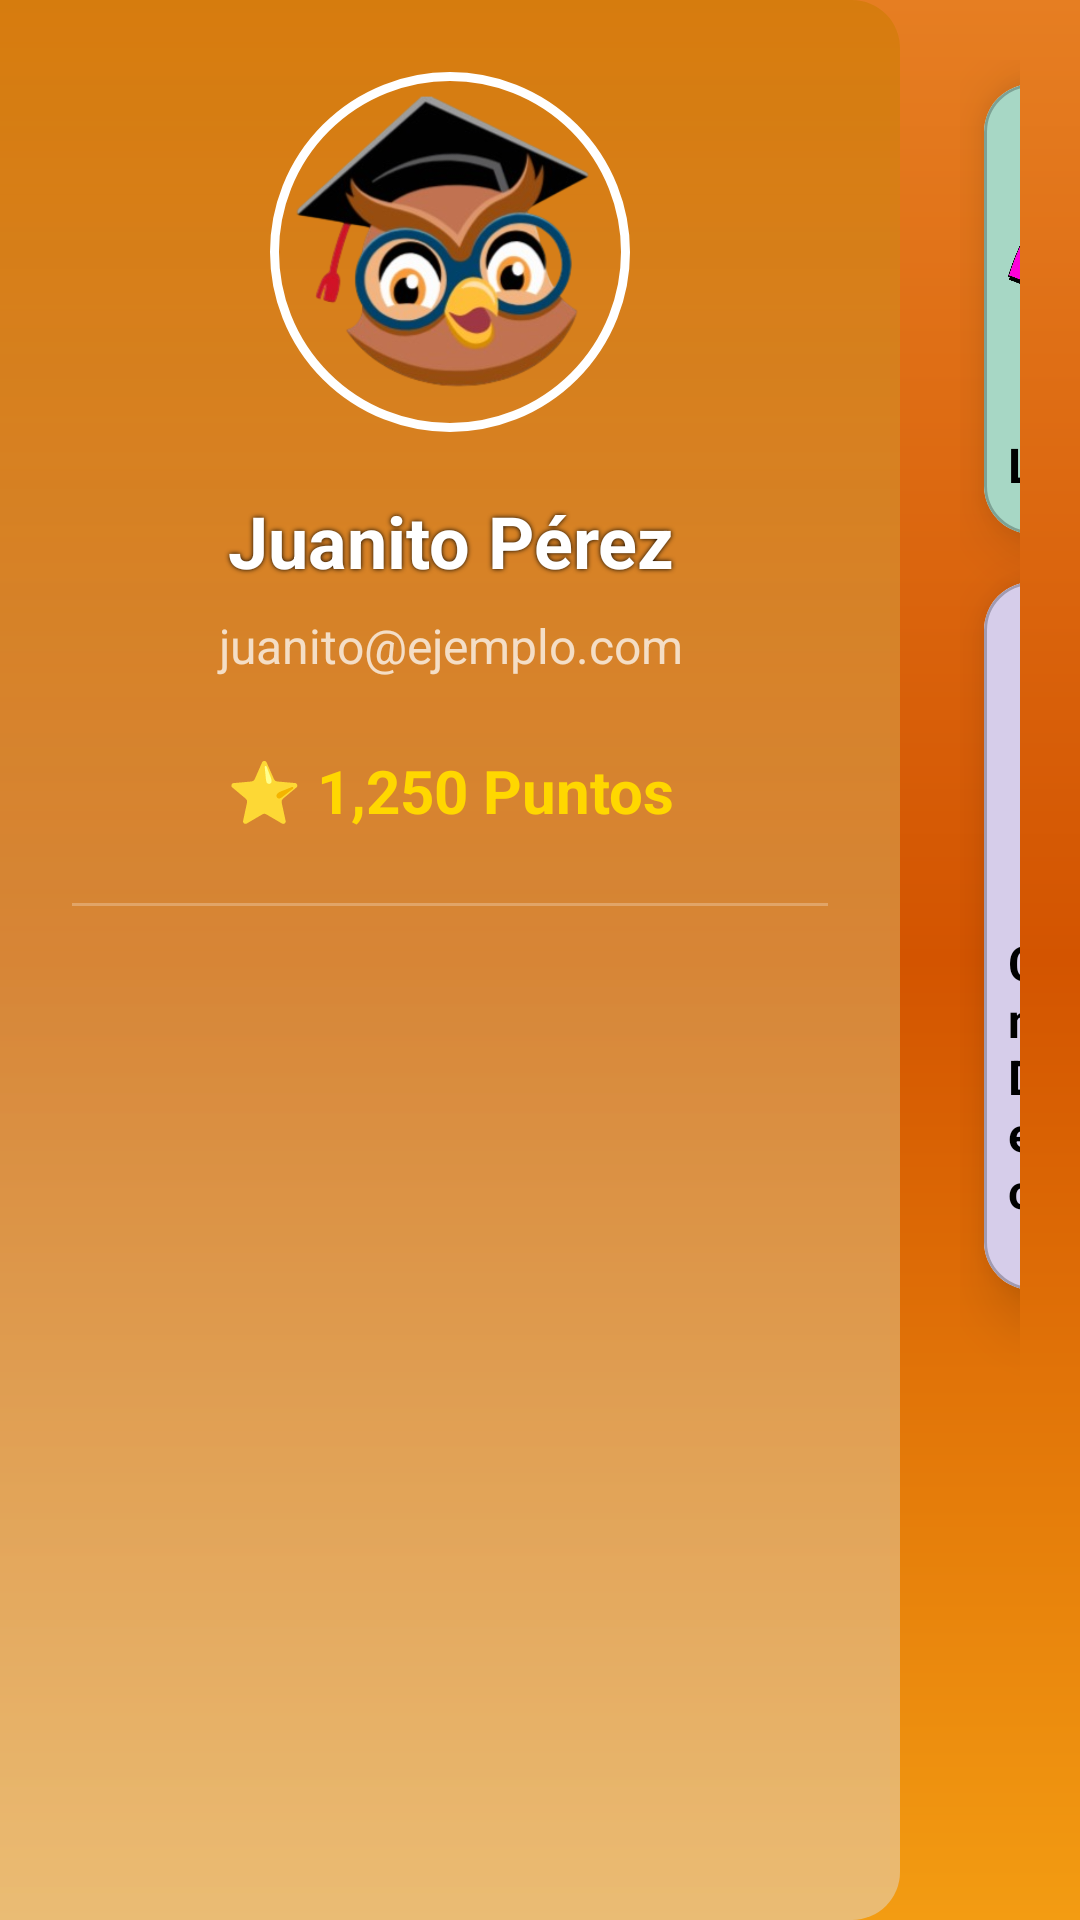

Icon click points for this 1080*1920 phone screenshot, format (x=x, y=y):
Foto de perfil: (x=450, y=252)
